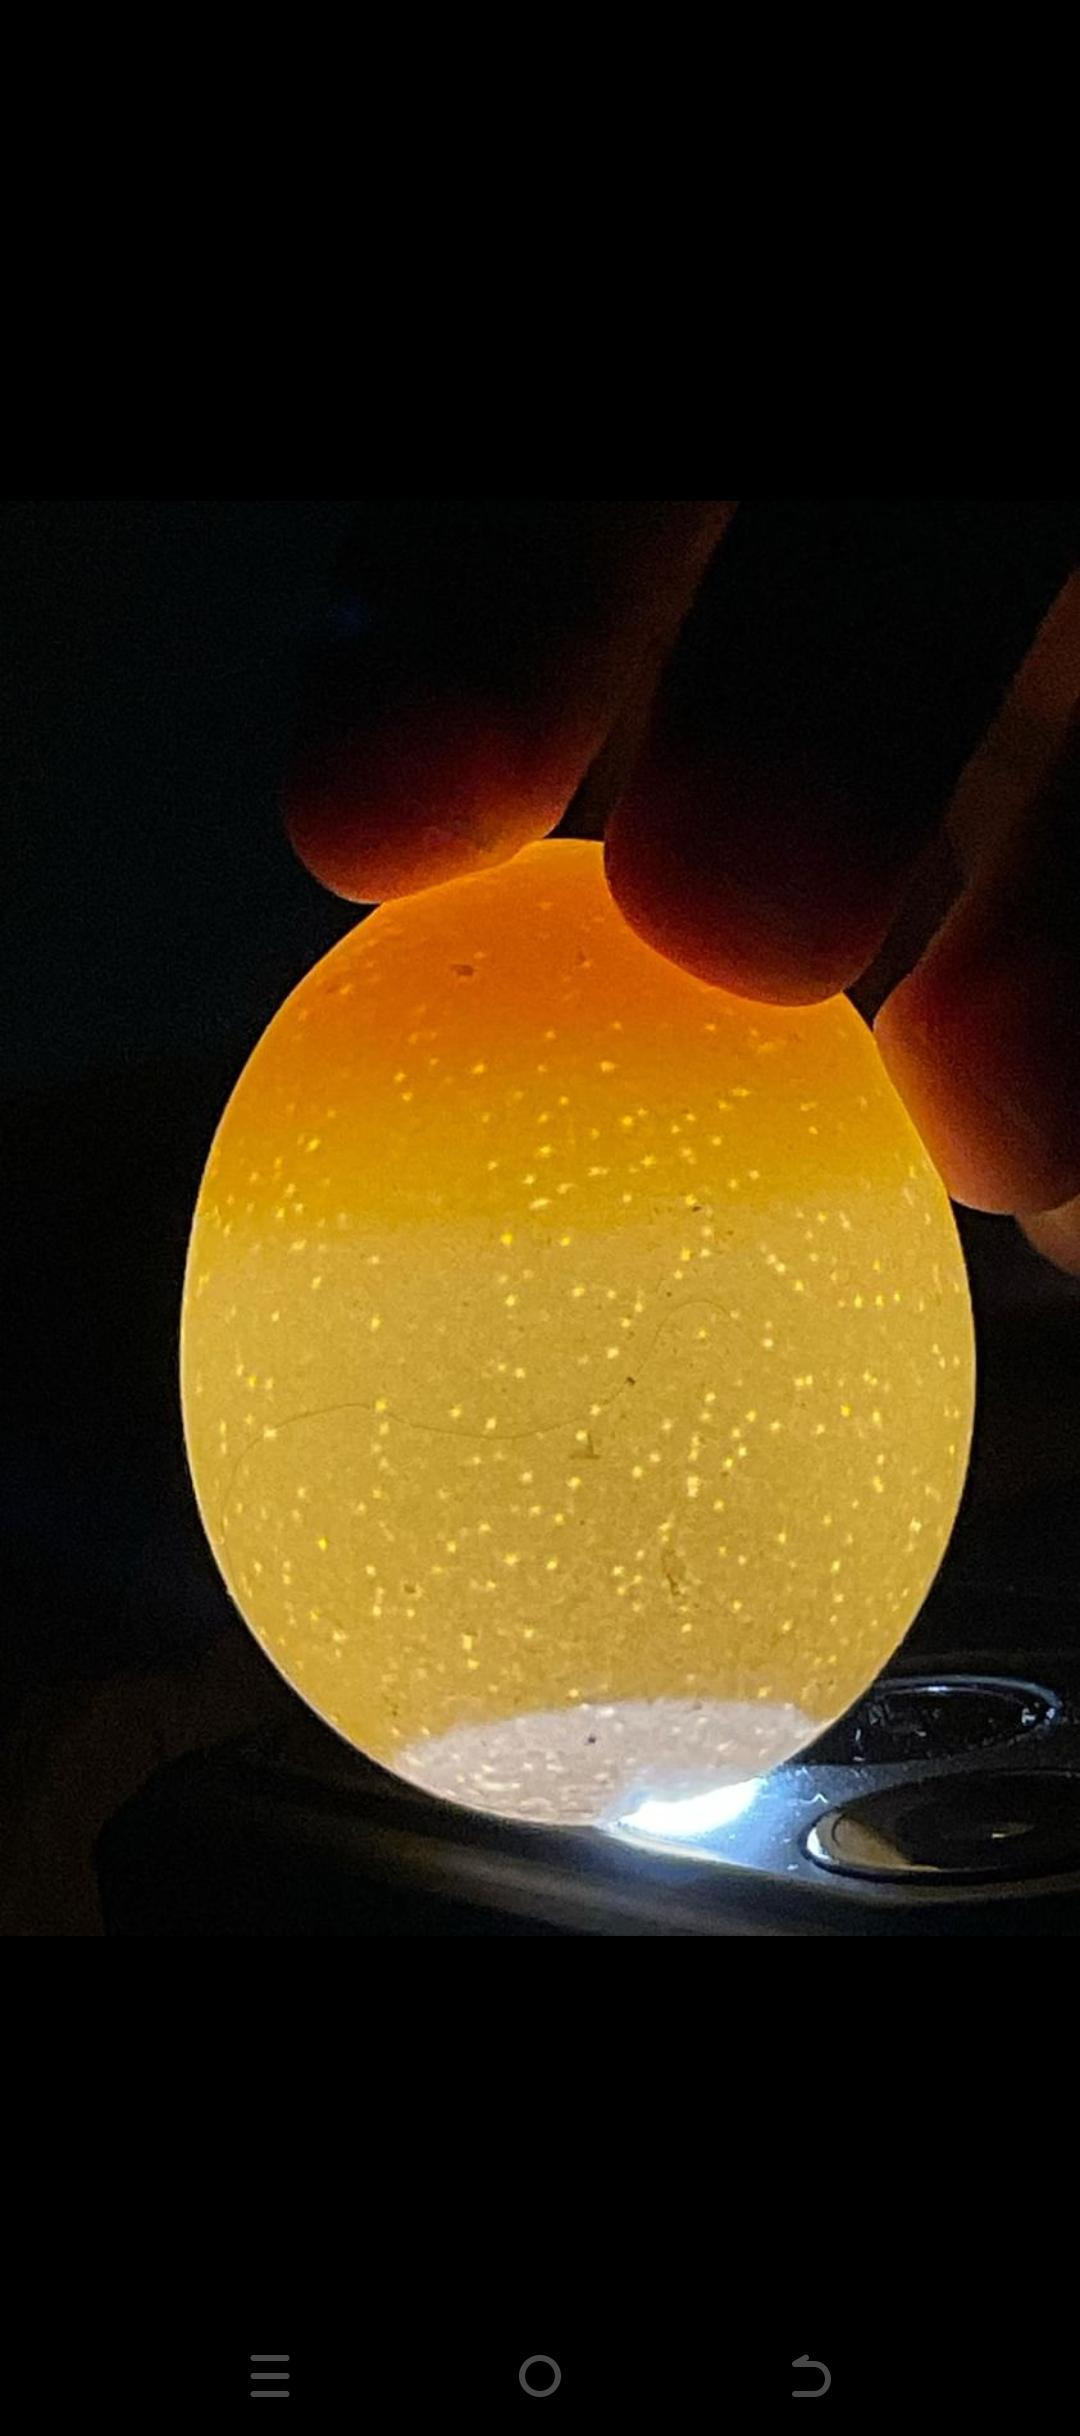A - Good: (174, 809, 981, 1833)
